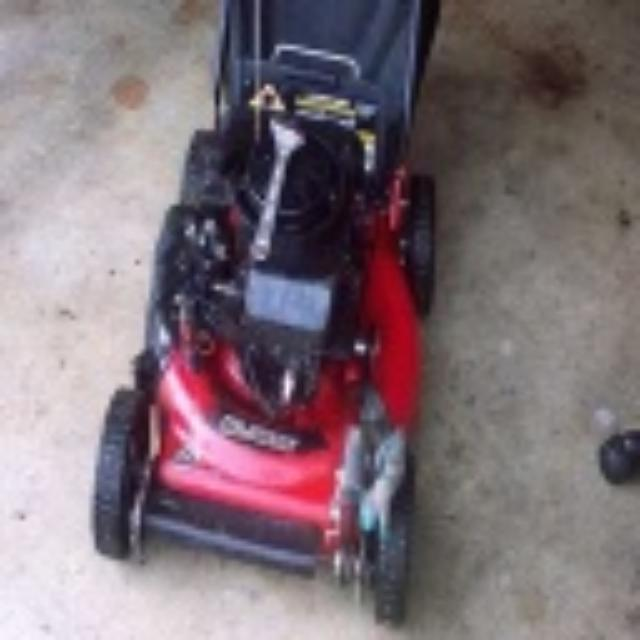Rotary-Mower: (85, 0, 445, 624)
